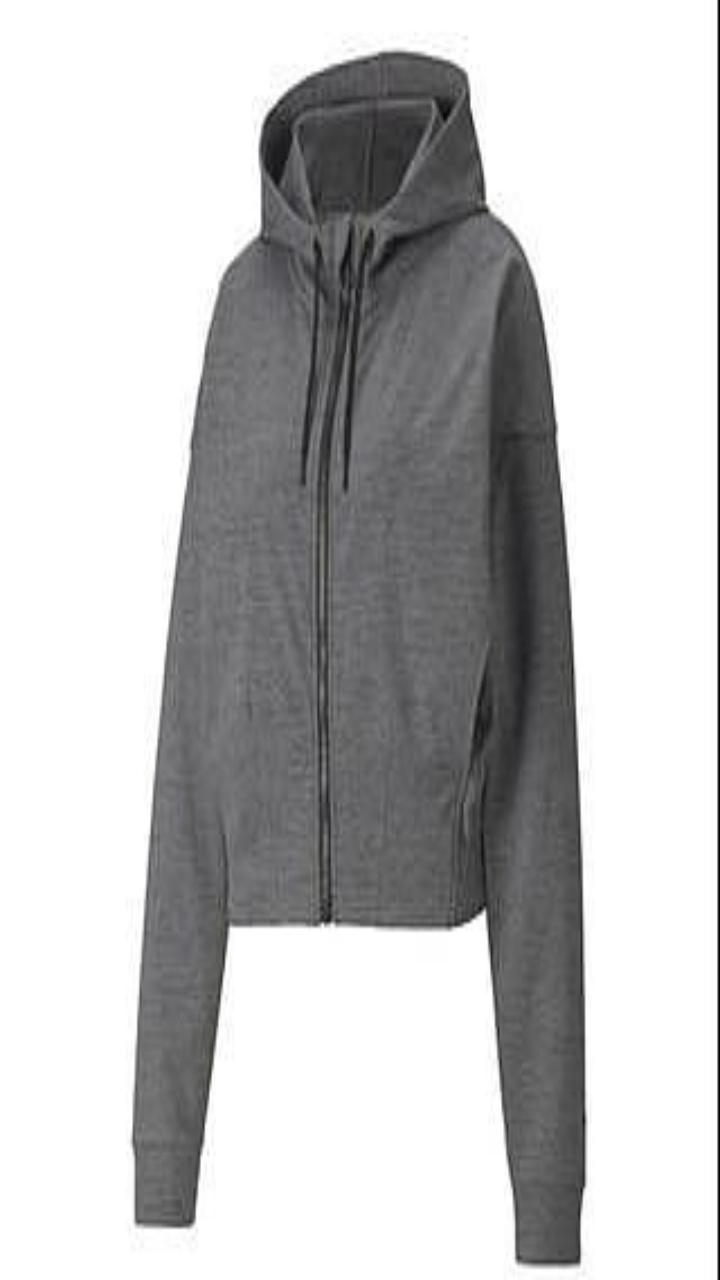Hoodie: (135, 55, 584, 1262)
